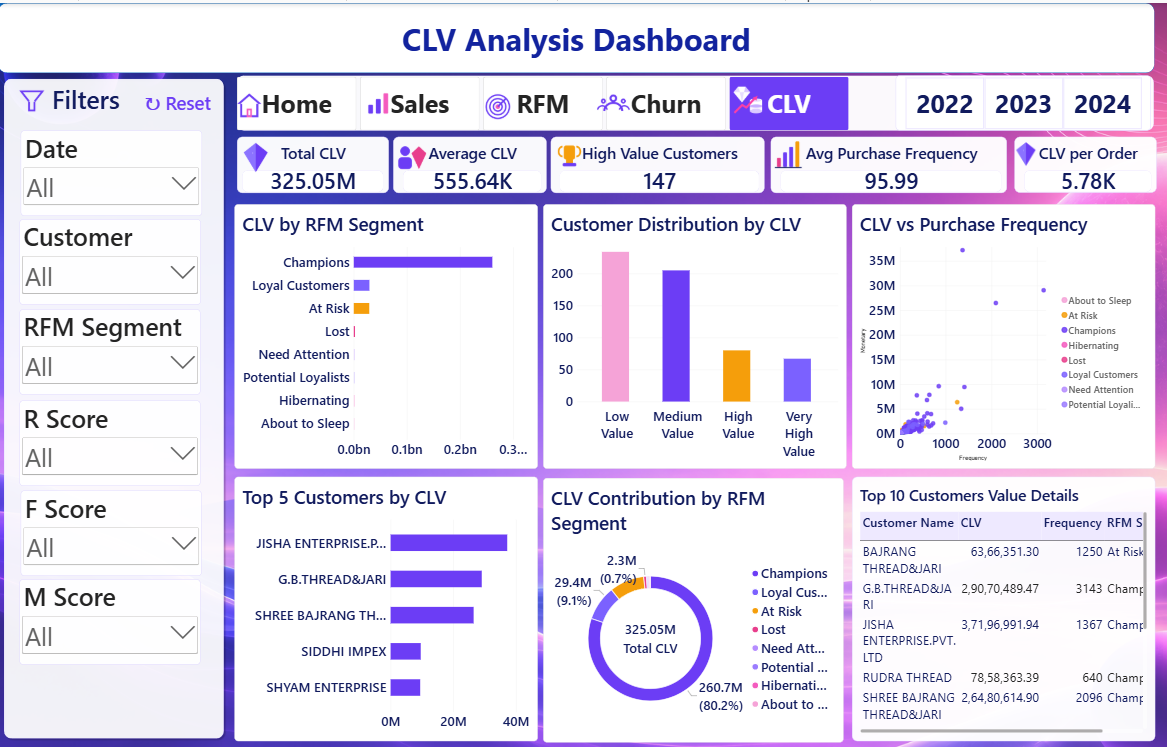

This screenshot's page, from the dashboard's own definition file:
{"tool":"powerbi","page":{"name":"CLV ","canvas":[2560,1600],"ordinal":4},"visuals":[{"type":"shape","box":[18.8,155.5,485.3,1429],"z":0},{"type":"shape","box":[525.5,155.5,1966.5,118.2],"z":1000},{"type":"image","box":[42.9,168.9,84.5,79.6],"z":2000},{"type":"textbox","box":[128.7,168.9,219.8,91.2],"z":3000},{"type":"actionButton","box":[316.4,179.6,188.2,79.6],"z":4000},{"type":"slicer","fields":{"Values":["Calendar.Date"]},"box":[62.7,272.7,388.5,183.4],"z":5000},{"type":"slicer","fields":{"Values":["Customer_RFM.R Score"]},"box":[57.9,851.7,388,183],"z":6000},{"type":"slicer","fields":{"Values":["Sales_Data.Customer Name"]},"box":[60.3,463.3,388.5,183.4],"z":7000},{"type":"slicer","fields":{"Values":["Customer_RFM.RFM Segment"]},"box":[60.3,656.3,388,183],"z":8000},{"type":"slicer","fields":{"Values":["Customer_RFM.F Score"]},"box":[62.7,1044.8,388,183],"z":9000},{"type":"cardVisual","title":"Total CLV","fields":{"Data":["Customer_RFM.Total CLV"]},"box":[525.5,286,325.7,120.6],"z":10000},{"type":"cardVisual","title":"High Value Customers","fields":{"Data":["Customer_RFM.High Value Customer"]},"box":[1198.4,286.9,458.4,120.6],"z":11000},{"type":"cardVisual","title":"CLV per Order","fields":{"Data":["Customer_RFM.CLV per Order"]},"box":[2193,286.9,305,120],"z":12000},{"type":"scatterChart","title":"CLV vs Purchase Frequency","fields":{"X":["Customer_RFM.Frequency"],"Y":["Customer_RFM.Monetary"],"Series":["Customer_RFM.RFM Segment"]},"box":[1844.5,431,650,567],"z":13000},{"type":"clusteredColumnChart","title":"Customer Distribution by CLV","fields":{"Category":["Customer_RFM.CLV Band"],"Y":["Customer_RFM.Total Customer"]},"box":[1182.3,431,650,567],"z":14000},{"type":"barChart","title":"Top 5 Customers by CLV","fields":{"Category":["Customer_RFM.Customer Name"],"Y":["Customer_RFM.Total CLV"]},"box":[520,1016.1,650,567],"z":15000},{"type":"slicer","fields":{"Values":["Customer_RFM.M Score"]},"box":[57.9,1235.4,388,183],"z":16000},{"type":"cardVisual","title":"Average CLV","fields":{"Data":["Customer_RFM.Average CLV"]},"box":[860.6,286,329,120.6],"z":17000},{"type":"cardVisual","title":"Avg Purchase Frequency","fields":{"Data":["Customer_RFM.Average Customer Frequency"]},"box":[1670,286.9,506.7,120.6],"z":18000},{"type":"clusteredBarChart","title":"CLV by RFM Segment","fields":{"Category":["Customer_RFM.RFM Segment"],"Y":["Customer_RFM.Total CLV"]},"box":[520.1,431.6,650,567],"z":19000},{"type":"donutChart","title":"CLV Contribution by RFM Segment","fields":{"Category":["Customer_RFM.RFM Segment"],"Y":["Customer_RFM.Total CLV"]},"box":[1182.3,1018.8,644.2,567],"z":20000},{"type":"tableEx","title":"Top 10 Customers Value Details","fields":{"Values":["Customer_RFM.Customer Name","Customer_RFM.Monetary","Customer_RFM.Frequency","Customer_RFM.RFM Segment"]},"box":[1844.5,1016.1,650,567],"z":21000},{"type":"image","box":[525.5,292.2,80,80],"z":22000},{"type":"image","box":[860.6,292.2,80.4,80.4],"z":23000},{"type":"image","box":[1198.4,286.9,80,80],"z":24000},{"type":"image","box":[1670.3,289.5,75,75],"z":25000},{"type":"image","box":[2185,292.2,65,65],"z":26000},{"type":"actionButton","box":[0,0,100,40],"z":27000},{"type":"shape","title":"CLV  Analysis","box":[13.4,0,2479.9,150.1],"z":28000},{"type":"slicer","fields":{"Values":["Calendar.Year"]},"box":[1938.3,156,546.9,118],"z":29000},{"type":"pageNavigator","box":[525.6,158,1312,115],"z":30000},{"type":"image","box":[510,182.1,84.6,79.5],"z":31000},{"type":"image","box":[766.7,174.4,133.3,79.5],"z":32000},{"type":"image","box":[1276.9,179.5,112.8,89.7],"z":33000},{"type":"image","box":[1025.6,182.1,115.8,79.6],"z":34000},{"type":"image","box":[1569,166.7,102.4,85.7],"z":35000}]}

Visuals, with their boxes in screenshot pixels (x1, y1, x2, y2), scaled from the page's 2560x1600 canvas onto the 1167x747 screenshot:
shape: 9 73 230 740
shape: 240 73 1136 128
image: 20 79 58 116
textbox: 59 79 159 121
actionButton: 144 84 230 121
slicer - Calendar.Date: 29 127 206 213
slicer - Customer_RFM.R Score: 26 398 203 483
slicer - Sales_Data.Customer Name: 27 216 205 302
slicer - Customer_RFM.RFM Segment: 27 306 204 392
slicer - Customer_RFM.F Score: 29 488 205 573
"Total CLV" cardVisual: 240 134 388 190
"High Value Customers" cardVisual: 546 134 755 190
"CLV per Order" cardVisual: 1000 134 1139 190
"CLV vs Purchase Frequency" scatterChart: 841 201 1137 466
"Customer Distribution by CLV" clusteredColumnChart: 539 201 835 466
"Top 5 Customers by CLV" barChart: 237 474 533 739
slicer - Customer_RFM.M Score: 26 577 203 662
"Average CLV" cardVisual: 392 134 542 190
"Avg Purchase Frequency" cardVisual: 761 134 992 190
"CLV by RFM Segment" clusteredBarChart: 237 202 533 466
"CLV Contribution by RFM Segment" donutChart: 539 476 833 740
"Top 10 Customers Value Details" tableEx: 841 474 1137 739
image: 240 136 276 174
image: 392 136 429 174
image: 546 134 583 171
image: 761 135 796 170
image: 996 136 1026 167
actionButton: 0 0 46 19
"CLV  Analysis" shape: 6 0 1137 70
slicer - Calendar.Year: 884 73 1133 128
pageNavigator: 240 74 838 127
image: 232 85 271 122
image: 350 81 410 119
image: 582 84 634 126
image: 468 85 520 122
image: 715 78 762 118
